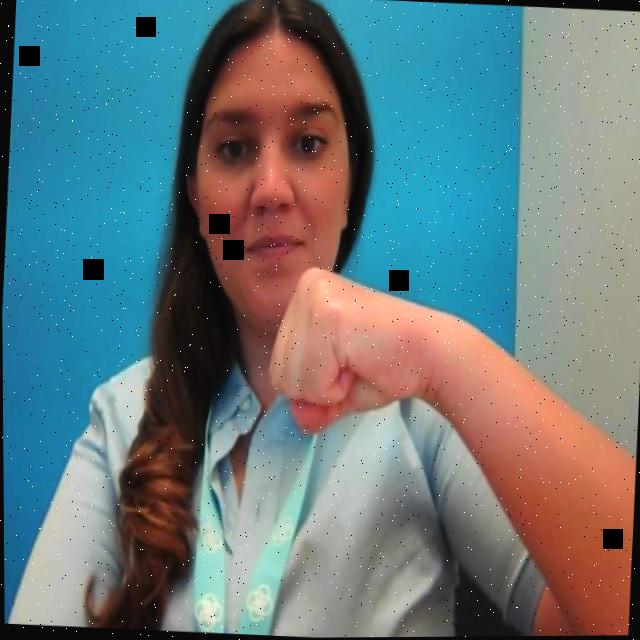Rock: (259, 260, 444, 444)
